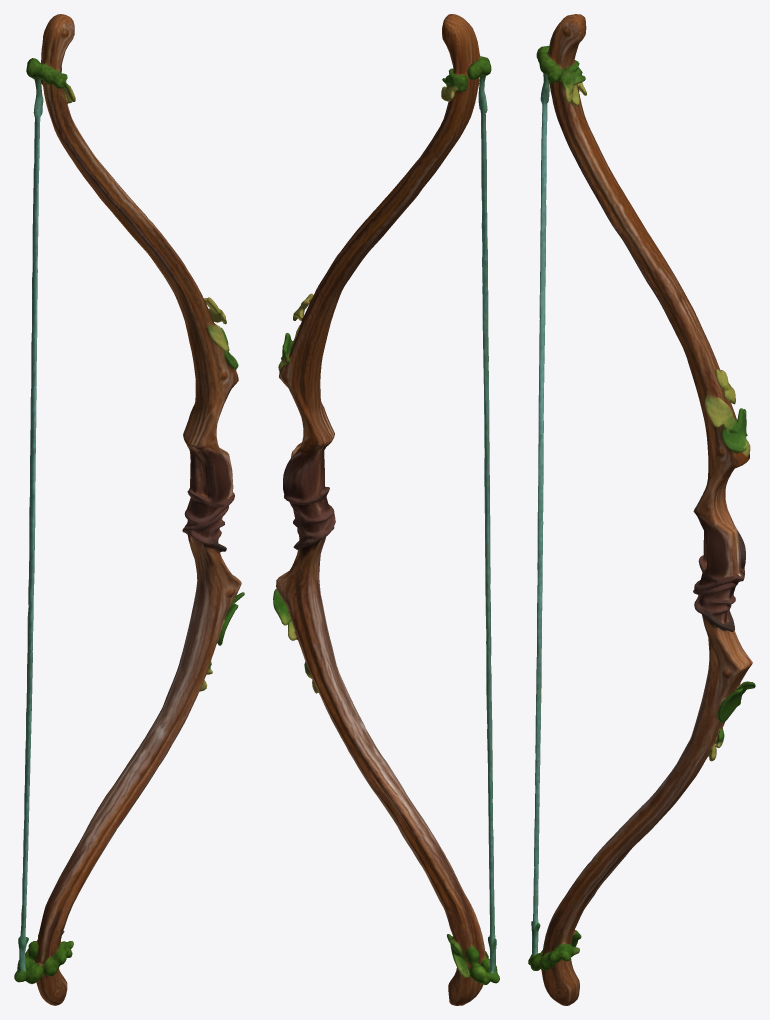
The model's file is wren_bow_PC.glb.
3 renders of one model, left to right at view 1: azimuth 30°, elevation 25°; view 2: azimuth 150°, elevation 25°; view 3: azimuth 330°, elevation 25°, orthographic.
Visible parts, largest first — view 1: wren_bow; view 2: wren_bow; view 3: wren_bow.
Part boxes in pixels (<box>): wren_bow: <box>14,14,244,1005</box>; wren_bow: <box>273,14,499,1005</box>; wren_bow: <box>528,14,755,1005</box>.
Size of the model in its own units: 0.324 by 1.35 by 0.0663.
1 material, 1 textured.
